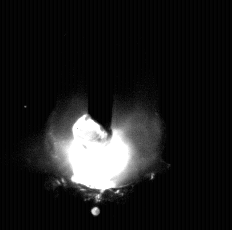arame: (89, 0, 114, 136)
poca: (46, 0, 157, 230)
